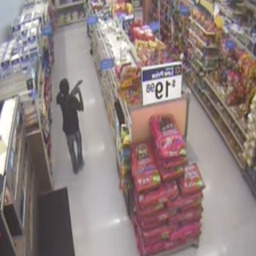person: (55, 78, 86, 176)
